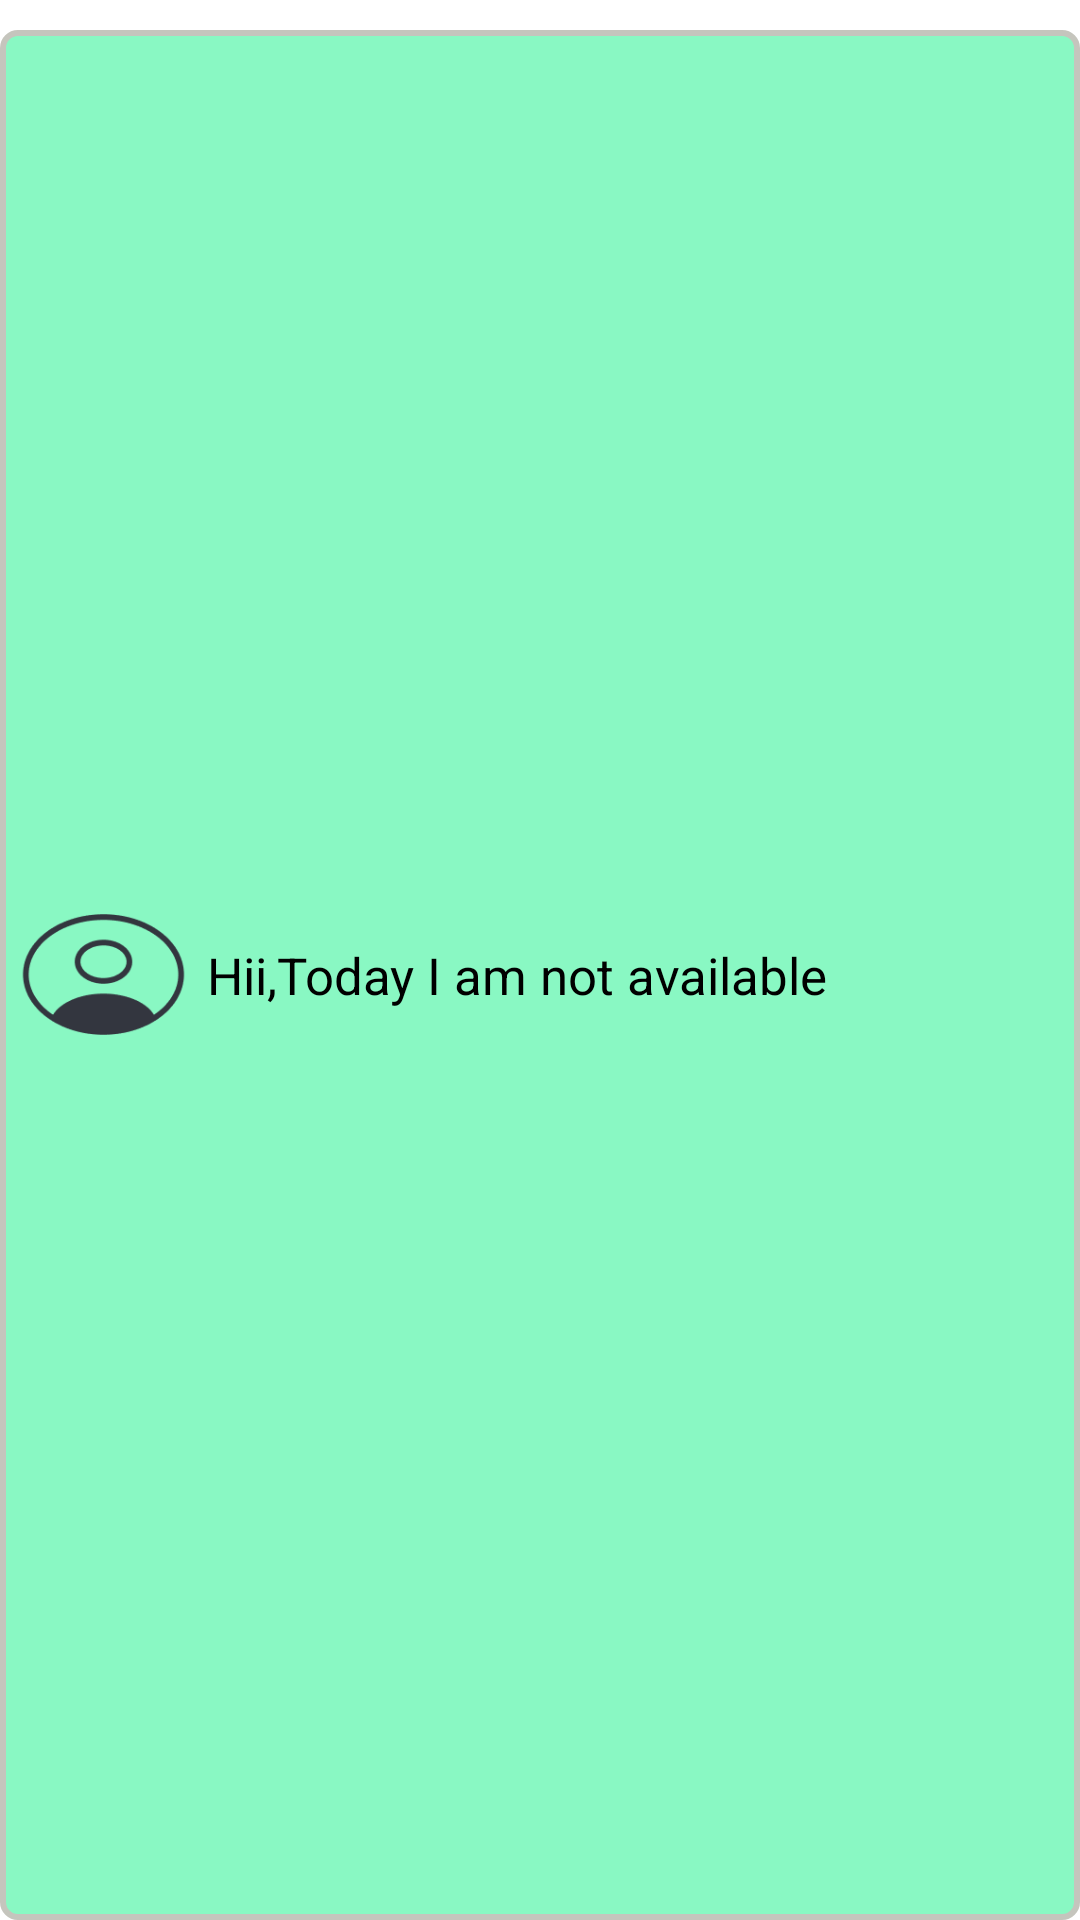

Icons on this 1080w x 1920h Android screen, each with its box as (x1, y1, x2, y2):
profile: (22, 914, 185, 1035)
